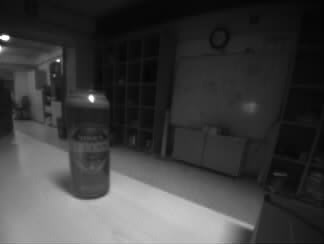Tin can: (66, 90, 109, 197)
